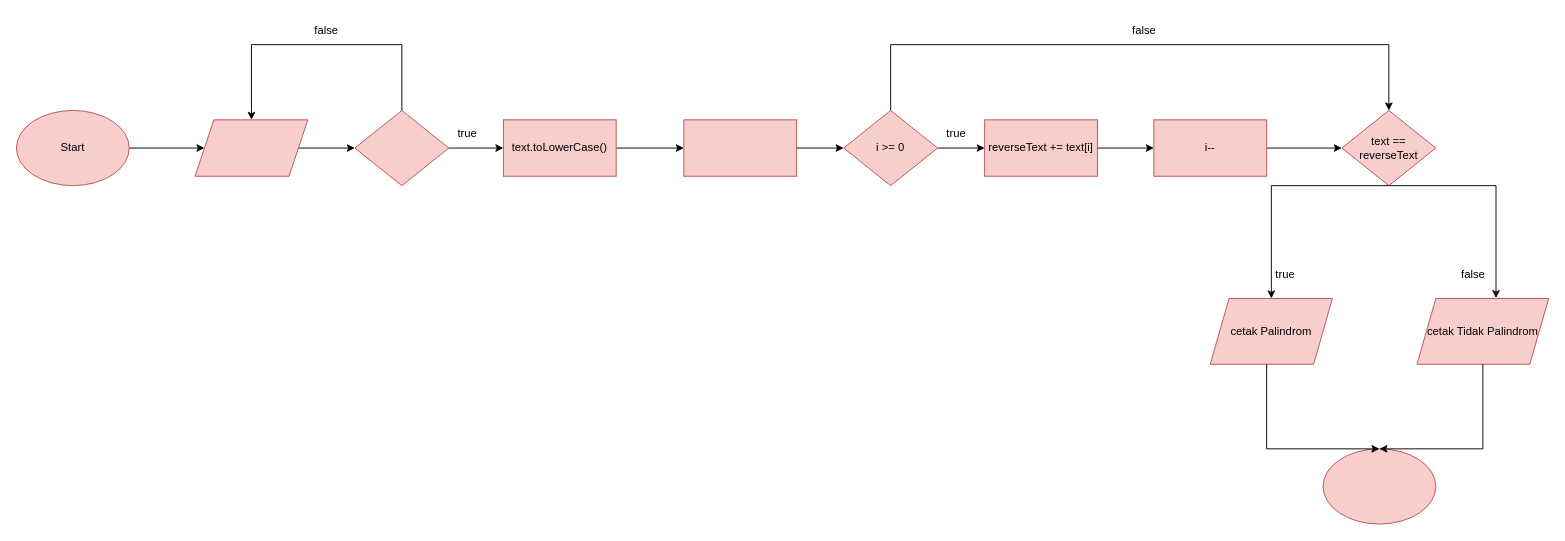
This 1565x541 diagram has some shape labels left out. Here are the shapes that lost their labels. From the top down, the centre of each, then its label:
At point (251, 147): "Input text".
At point (401, 148): "text adalah String".
At point (740, 147): "i = text.length - 1".
At point (1379, 486): "End".
